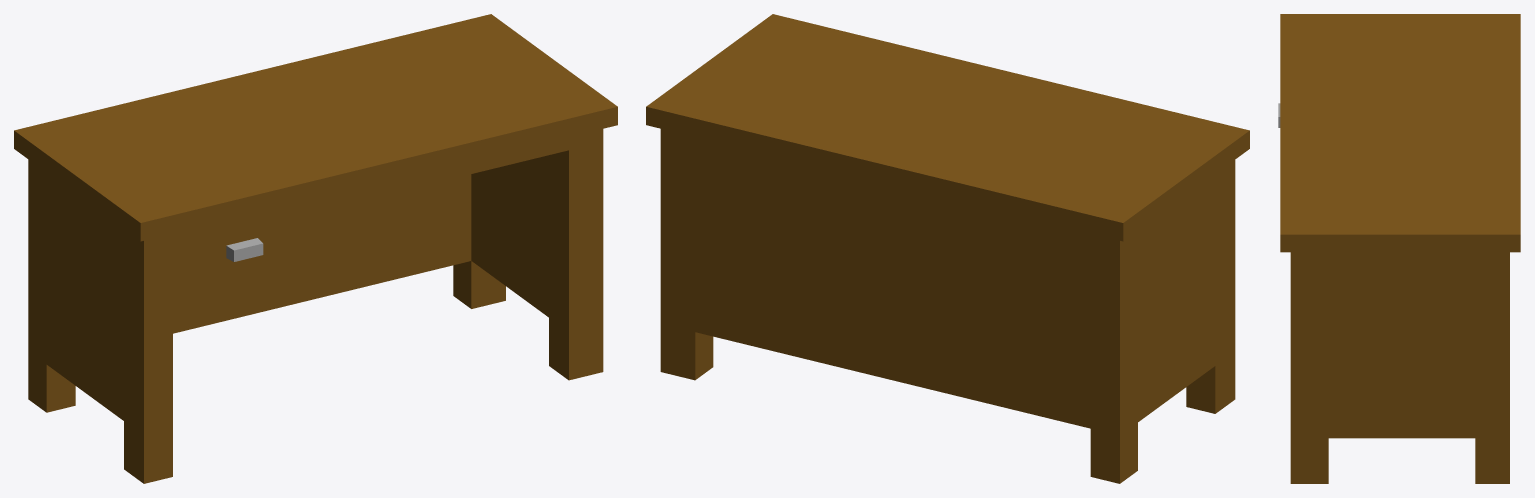
The model's file is desk (5).fbx.
The picture shows the model from 3 angles, left to right: view 1: azimuth 30°, elevation 25°; view 2: azimuth 150°, elevation 25°; view 3: azimuth 270°, elevation 25°; orthographic projection. The views are drawn at different scales.
Visible parts, largest first — view 1: Cube; view 2: Cube; view 3: Cube.
Boxes of the visible parts, x1,y1,x2,y2 form: Cube: [14, 14, 617, 483]; Cube: [646, 14, 1249, 483]; Cube: [1278, 14, 1520, 483].
Size of the model in its own units: 492 by 263 by 228.
